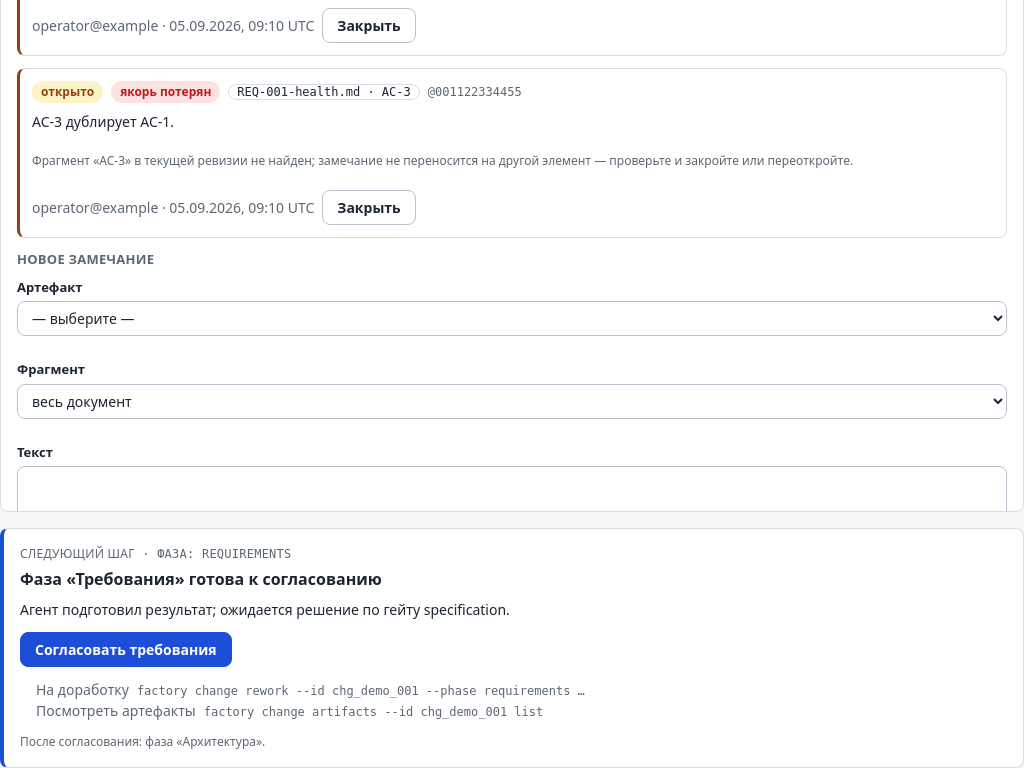
Test: ChangeSetPage (T088, ADR-037 p.4) › records the phase approval from the decision panel, version-bound to the gate revision
This screenshot has width=1024, height=768.
(page scrolled)
Click the button with test id "next-step-primary" at [126, 650], box x1=20 y1=632 x2=232 y2=667
(page scrolled)
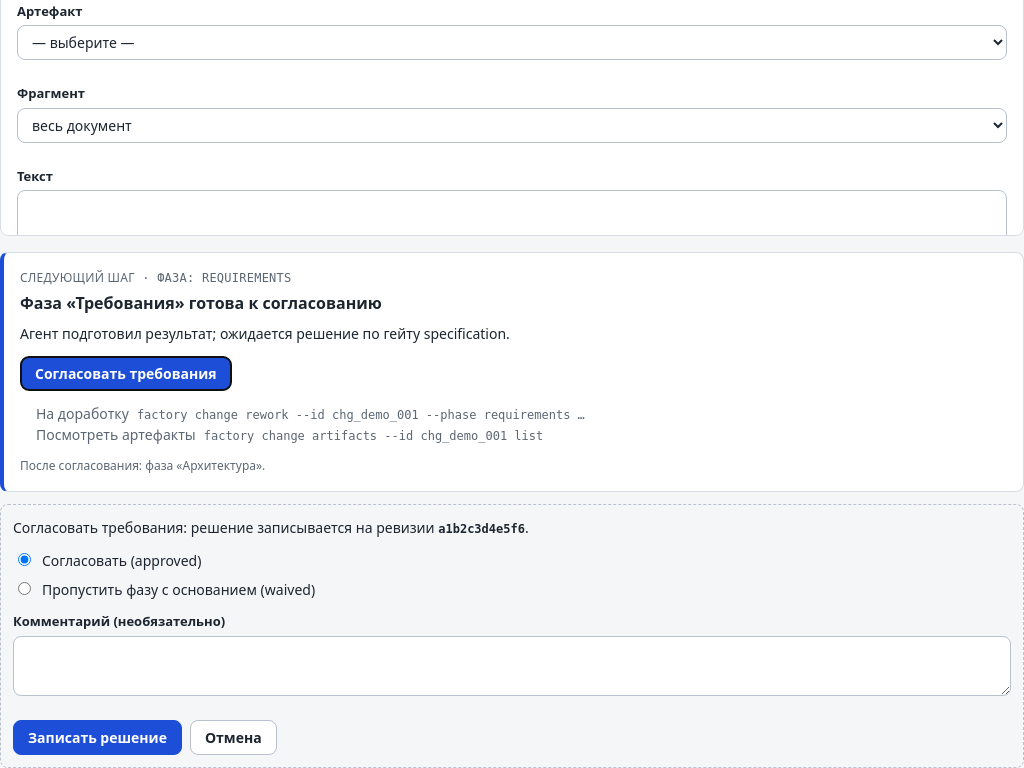
Result: the text with test id "approval-revision" reads "a1b2c3d4e5f6" at x1=438 y1=522 x2=525 y2=536
Type "требования понятны" into the text box with test id "approval-comment" at [512, 666], box x1=13 y1=636 x2=1011 y2=696
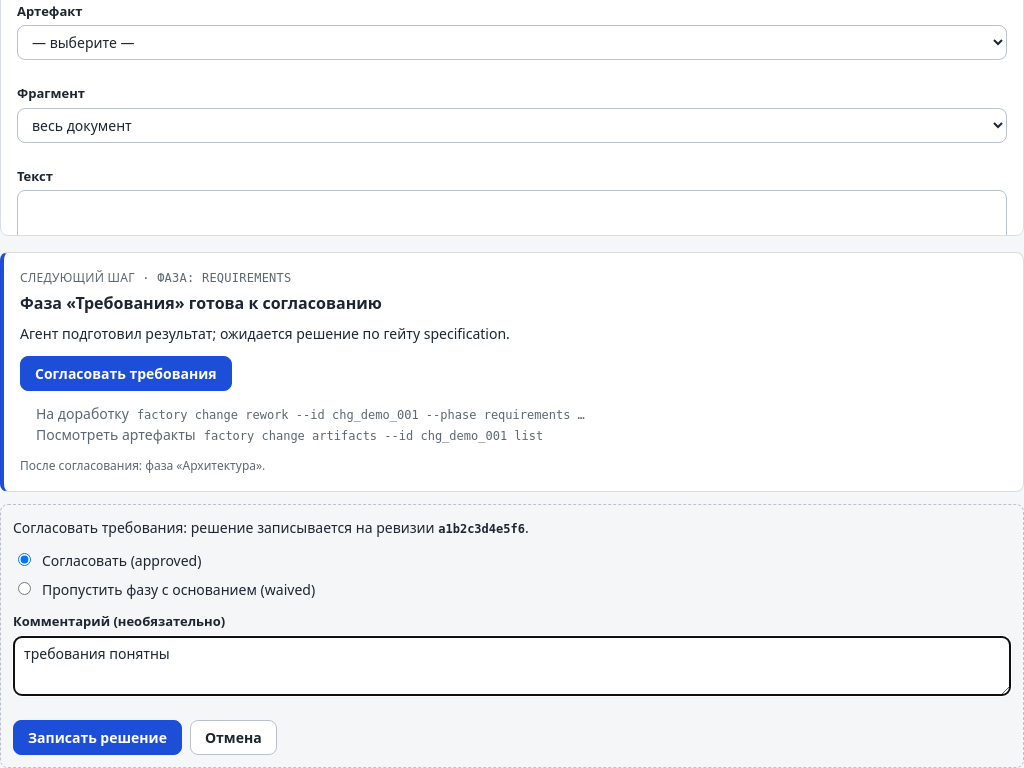
Click the button with test id "approval-submit" at [98, 737], box x1=13 y1=720 x2=182 y2=754
(page scrolled)
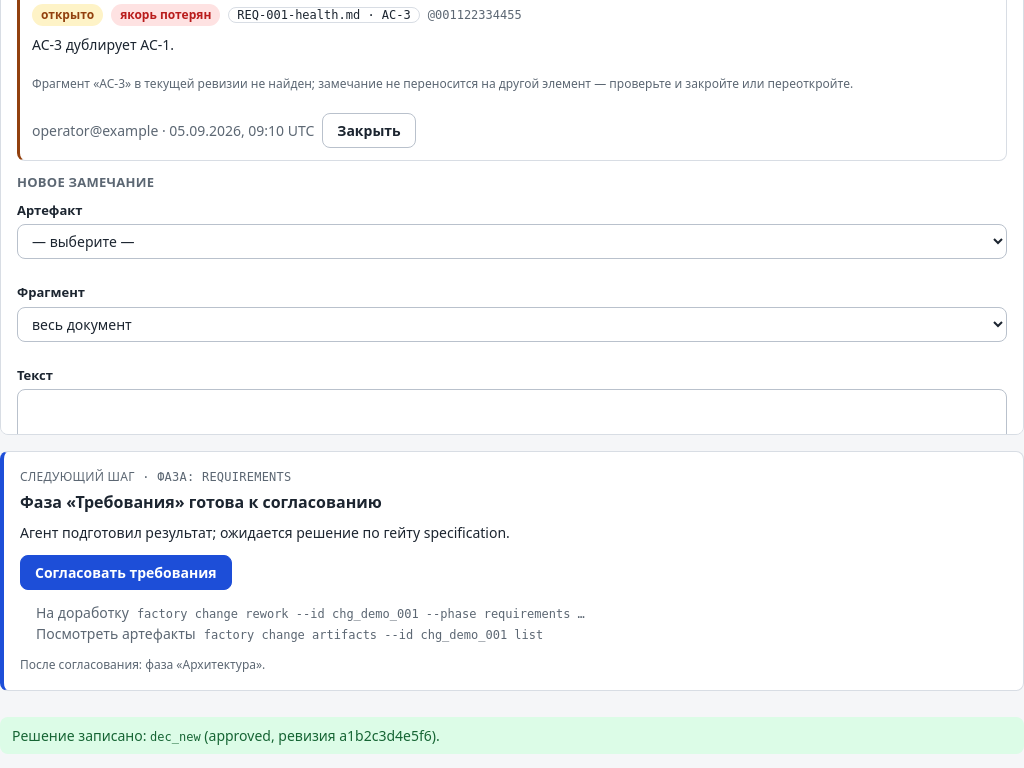
Result: the element with test id "approval-recorded" shows "Решение записано: dec_new" at x1=0 y1=717 x2=1023 y2=754
